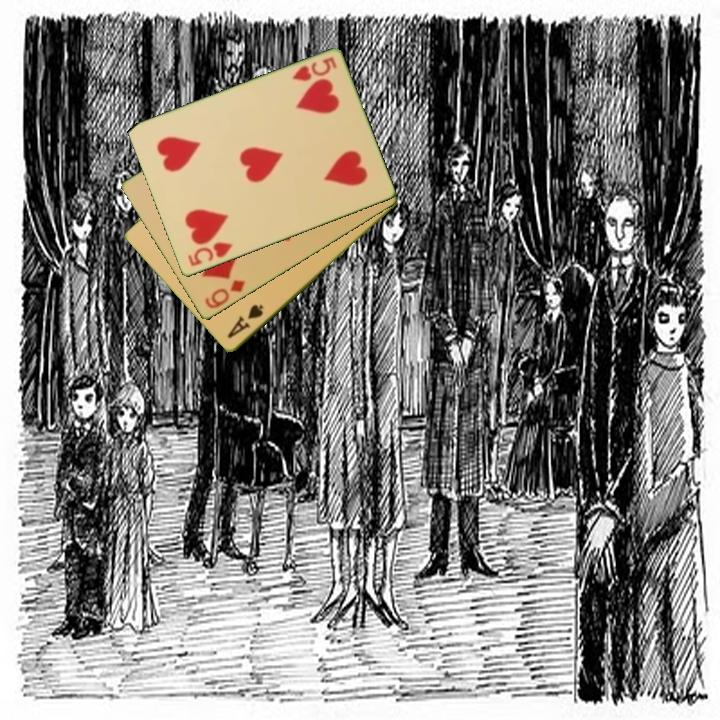5h: (184, 239, 235, 270), (289, 54, 339, 85)
6d: (201, 277, 248, 312)
As: (224, 301, 266, 342)
